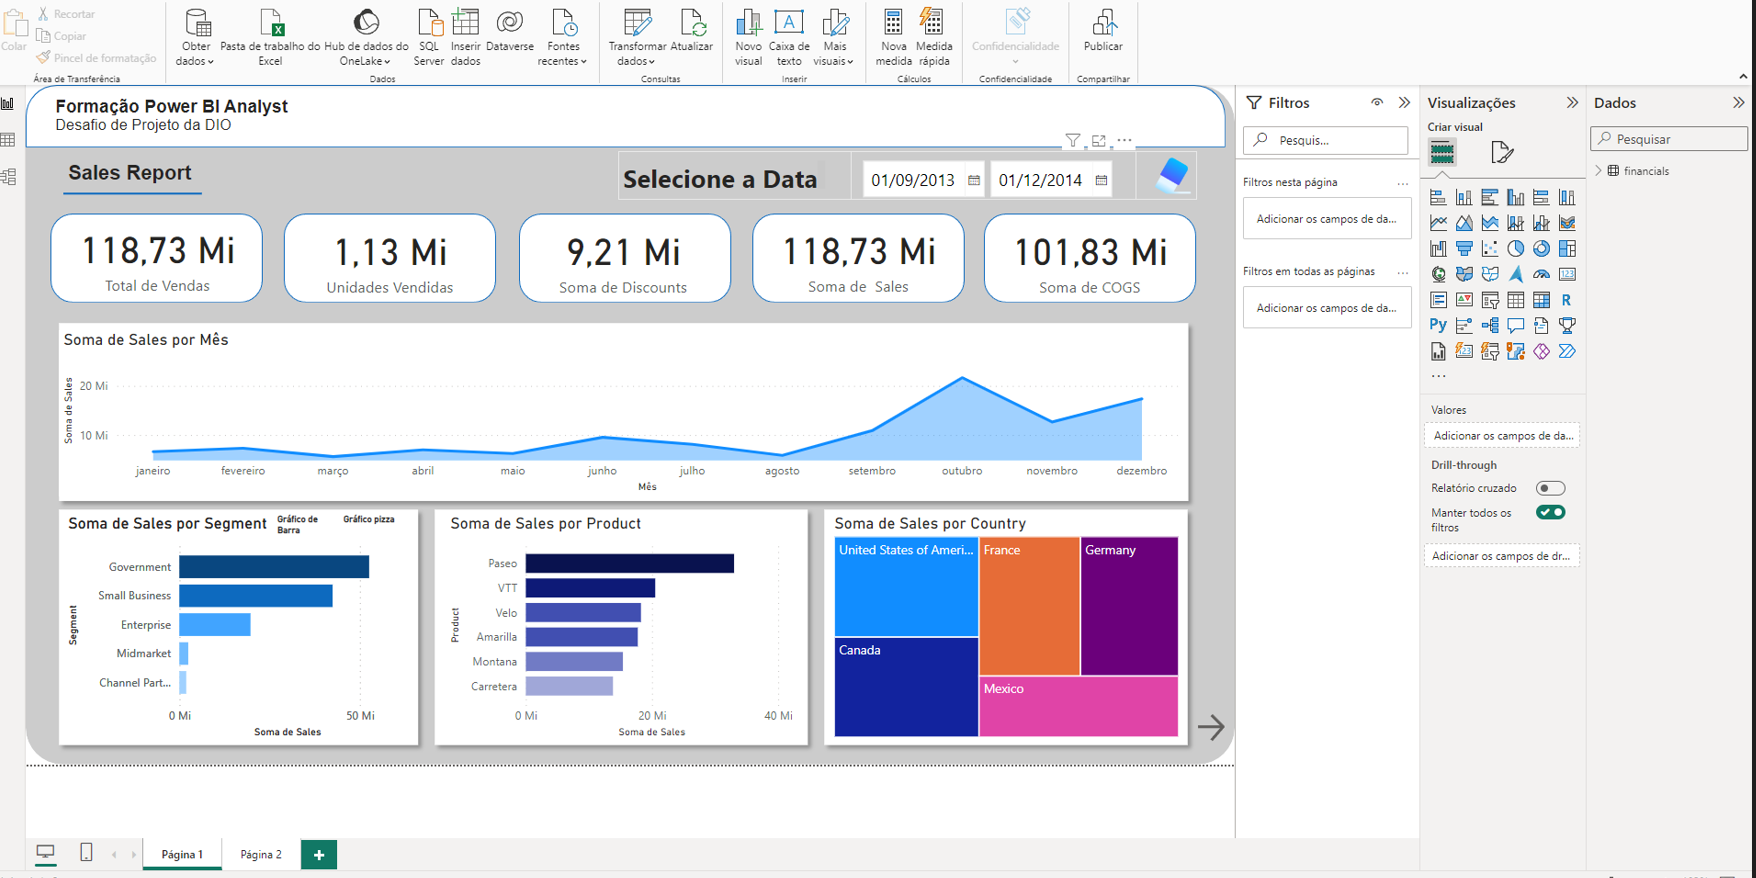

What the dashboard file says about the page in this screenshot:
{"tool":"powerbi","page":{"name":"Página 1","canvas":[1280,720],"ordinal":0},"visuals":[{"type":"shape","box":[0,0,1280,719.5],"z":0},{"type":"slicer","fields":{"Values":["financials.Date"]},"box":[872.9,69.9,302.2,51.9],"z":0,"group":"g2"},{"type":"shape","box":[26.3,136.2,224.7,94.3],"z":0,"group":"g1"},{"type":"clusteredBarChart","fields":{"Y":["Sum(financials. Sales)"],"Category":["financials.Segment"]},"box":[39.5,454.5,372.2,241.3],"z":0,"group":"g3"},{"type":"shape","box":[0,0,1270.3,66.1],"z":1000},{"type":"textbox","box":[627,74.4,224.4,42.9],"z":1000,"group":"g2"},{"type":"shape","box":[273.4,136.2,224.7,94.3],"z":1000,"group":"g1"},{"type":"actionButton","title":"Gráfico pizza","box":[336.1,454.5,59.8,21.4],"z":1500,"group":"g3"},{"type":"actionButton","title":"Gráfico de Barra","box":[266.2,454.5,59.8,21.4],"z":1750,"group":"g3"},{"type":"textbox","box":[26.3,6.8,270.4,51.6],"z":2000},{"type":"actionButton","box":[1190.9,76.7,49.6,45.1],"z":2000,"group":"g2"},{"type":"shape","box":[522.3,136.2,224.7,94.3],"z":2000,"group":"g1"},{"type":"actionButton","box":[1234.9,661.5,45.1,38.3],"z":2000,"group":"g3"},{"type":"group","id":"g1","title":"Cartões","box":[26.3,136.2,1212.9,94.3],"z":3000},{"type":"shape","box":[769.4,136.2,224.7,94.3],"z":3000,"group":"g1"},{"type":"textbox","box":[39.5,75.6,154.5,39.5],"z":4000},{"type":"shape","box":[1014.5,136.2,224.7,94.3],"z":4000,"group":"g1"},{"type":"shape","box":[39.5,106,146.6,18],"z":5000},{"type":"card","fields":{"Values":["Sum(financials. Sales)"]},"box":[45.2,139.4,189.5,84.6],"z":5000,"group":"g1"},{"type":"shape","box":[25.9,243.6,1213.5,206.4],"z":6000},{"type":"shape","box":[25.9,441,398.1,267.3],"z":7000},{"type":"shape","box":[424,441,412.8,267.3],"z":8000},{"type":"shape","box":[836.8,441,402.6,267.3],"z":9000},{"type":"image","box":[1190.9,66.5,48.5,60.9],"z":10000},{"type":"areaChart","fields":{"Category":["financials.Date.Variation.Hierarquia de datas.Mês"],"Y":["Sum(financials. Sales)"]},"box":[35,259.4,1189.8,175.9],"z":11000},{"type":"card","fields":{"Values":["Sum(financials.Units Sold)"]},"box":[291,141,189.5,84.6],"z":12000},{"type":"card","fields":{"Values":["Sum(financials.Discounts)"]},"box":[537.9,141,189.5,84.6],"z":13000},{"type":"card","fields":{"Values":["Sum(financials. Sales)"]},"box":[787.2,139.8,189.5,84.6],"z":14000},{"type":"card","fields":{"Values":["Sum(financials.COGS)"]},"box":[1031.9,141,189.5,84.6],"z":15000},{"type":"clusteredBarChart","fields":{"Y":["Sum(financials. Sales)"],"Category":["financials.Segment"]},"box":[39.5,454.5,372.2,241.3],"z":16000},{"type":"clusteredBarChart","fields":{"Category":["financials.Product"],"Y":["Sum(financials. Sales)"]},"box":[444.3,454.5,372.2,241.3],"z":17000},{"type":"treemap","fields":{"Group":["financials.Country"],"Values":["Sum(financials. Sales)"]},"box":[851.5,454.5,374.4,241.3],"z":18000},{"type":"group","id":"g2","title":"Filtro por Data","box":[627,69.9,613.5,51.9],"z":19000},{"type":"group","id":"g3","title":"Sales por segmento","box":[39.5,454.5,1240.5,245.3],"z":20000}]}

Visuals, with their boxes on the page's 1280x720 design canvas (x1, y1, x2, y2). These are canvas units, not pixel positions in the 1756x878 screenshot, which may show the page scaled, cropped or inside an application window:
shape: region(0, 0, 1280, 720)
slicer - financials.Date: region(873, 70, 1175, 122)
shape: region(26, 136, 251, 230)
clusteredBarChart - Sum(financials. Sales) x financials.Segment: region(40, 454, 412, 696)
shape: region(0, 0, 1270, 66)
textbox: region(627, 74, 851, 117)
shape: region(273, 136, 498, 230)
"Gráfico pizza" actionButton: region(336, 454, 396, 476)
"Gráfico de Barra" actionButton: region(266, 454, 326, 476)
textbox: region(26, 7, 297, 58)
actionButton: region(1191, 77, 1240, 122)
shape: region(522, 136, 747, 230)
actionButton: region(1235, 662, 1280, 700)
"Cartões" group: region(26, 136, 1239, 230)
shape: region(769, 136, 994, 230)
textbox: region(40, 76, 194, 115)
shape: region(1014, 136, 1239, 230)
shape: region(40, 106, 186, 124)
card - Sum(financials. Sales): region(45, 139, 235, 224)
shape: region(26, 244, 1239, 450)
shape: region(26, 441, 424, 708)
shape: region(424, 441, 837, 708)
shape: region(837, 441, 1239, 708)
image: region(1191, 66, 1239, 127)
areaChart - financials.Date.Variation.Hierarquia de datas.Mês x Sum(financials. Sales): region(35, 259, 1225, 435)
card - Sum(financials.Units Sold): region(291, 141, 480, 226)
card - Sum(financials.Discounts): region(538, 141, 727, 226)
card - Sum(financials. Sales): region(787, 140, 977, 224)
card - Sum(financials.COGS): region(1032, 141, 1221, 226)
clusteredBarChart - Sum(financials. Sales) x financials.Segment: region(40, 454, 412, 696)
clusteredBarChart - financials.Product x Sum(financials. Sales): region(444, 454, 816, 696)
treemap - financials.Country x Sum(financials. Sales): region(852, 454, 1226, 696)
"Filtro por Data" group: region(627, 70, 1240, 122)
"Sales por segmento" group: region(40, 454, 1280, 700)
